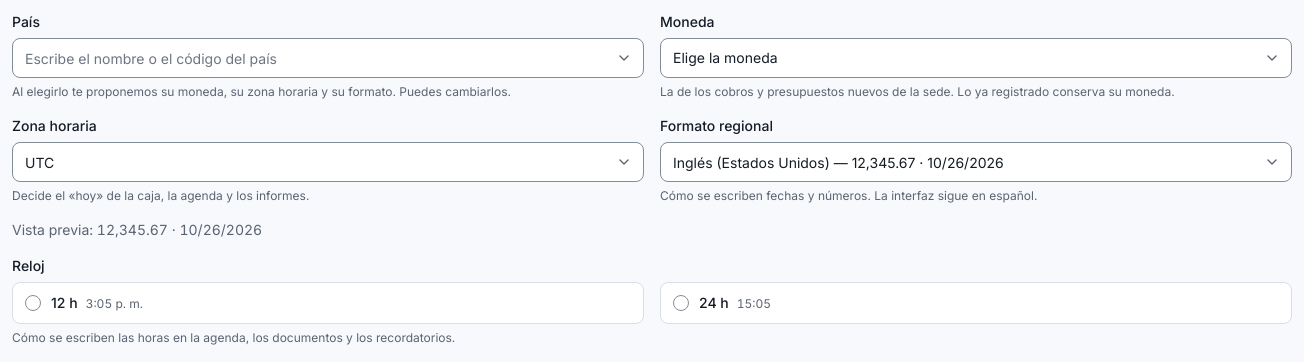
Test: RegionalSettingsFields › with a fixed clock › clock option examples and preview follow the chosen clock and locale
Check: the radio button labelled "24 h" is not checked, box [673,295,689,311]
Check: the text "Vista previa: 12,345.67 · 10/26/2026" is shown, box [12,221,262,238]
Click the radio button labelled "12 h". click: (33, 303)
box: [25,295,41,311]
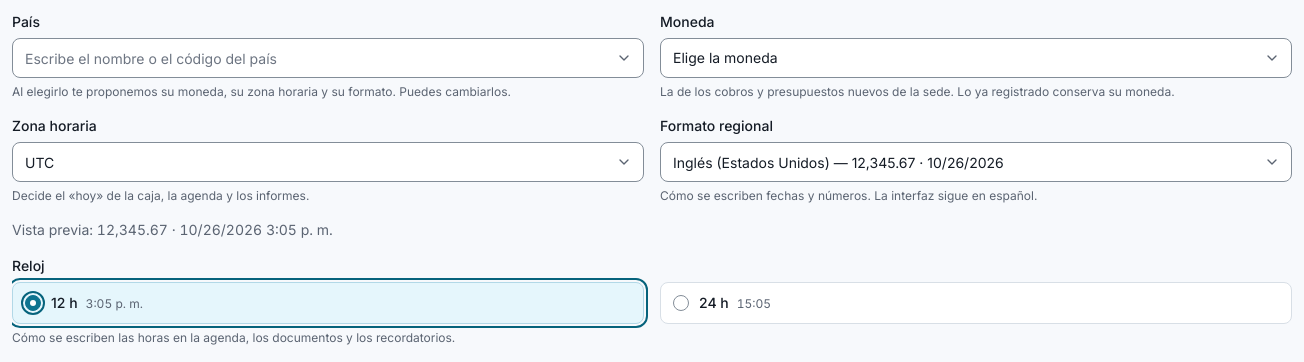
Check: the radio button labelled "12 h" is checked, box [25,295,41,311]
Check: the text "Vista previa: 12,345.67 · 10/26/2026 3:05 p. m." is shown, box [12,221,333,238]
Replace the text in the dropdown labelled "Formato regional" with "de-DE". click: (976, 162)
box: [660,142,1292,182]
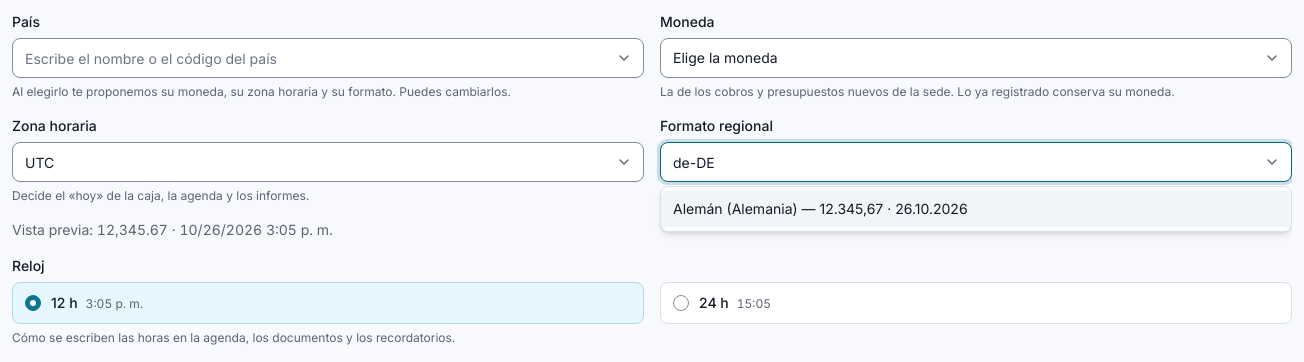
Press Enter
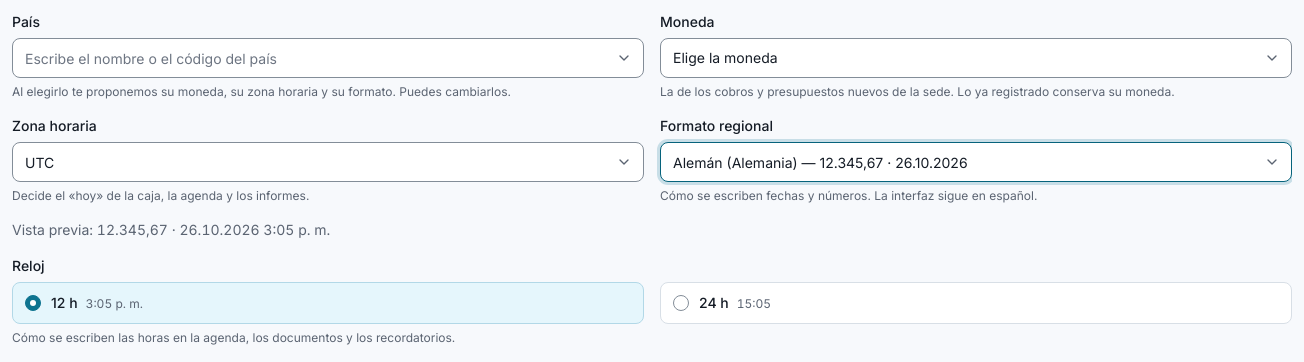
Click the radio button labelled "24 h". click: (681, 303)
box: [673,295,689,311]
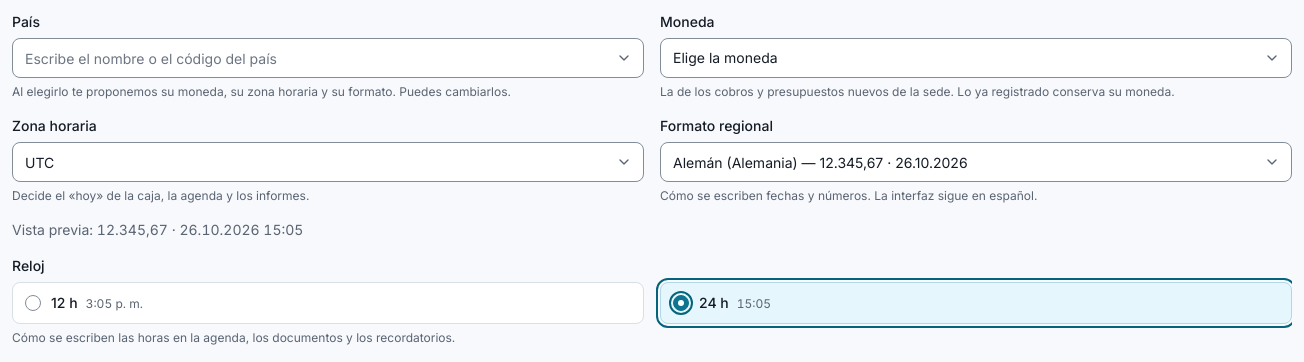
Check: the text "Vista previa: 12.345,67 · 26.10.2026 15:05" is shown, box [12,221,304,238]
Replace the text in the dropdown labelled "Zona horaria" with "Asia/Tokyo". click: (328, 162)
box: [12,142,644,182]
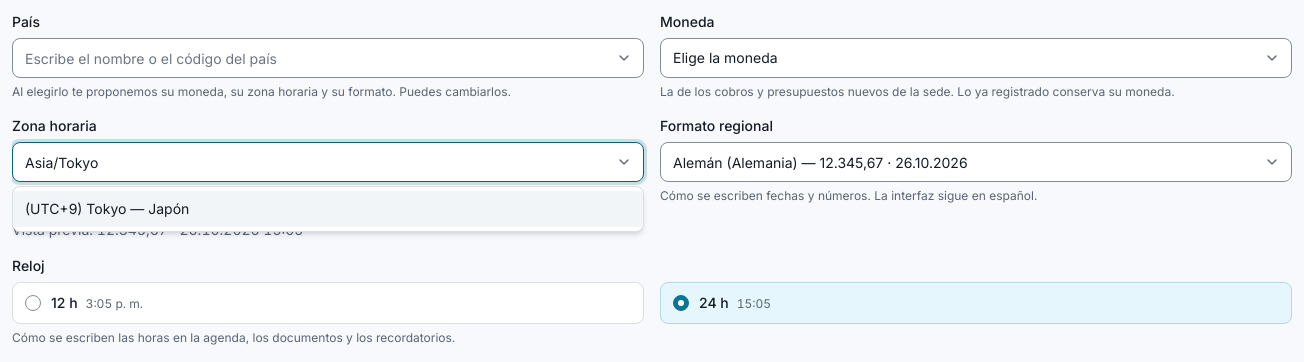
Press Enter
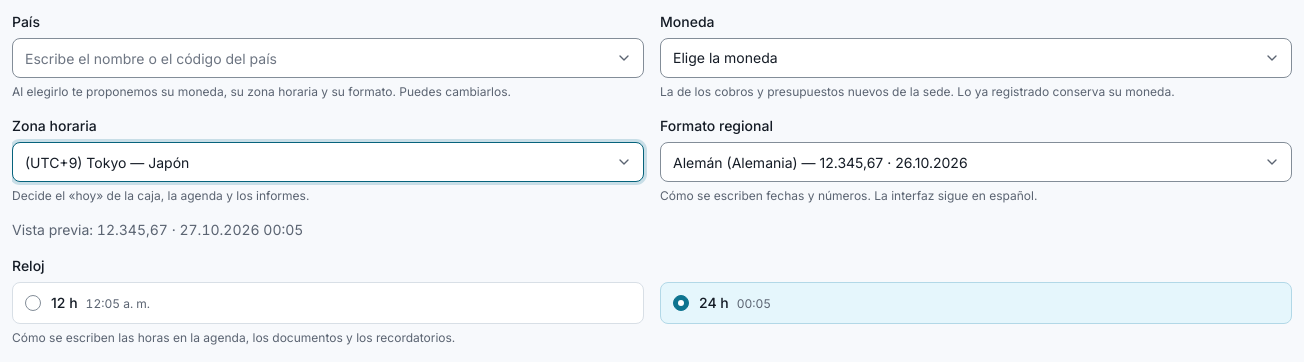
Check: the text "Vista previa: 12.345,67 · 27.10.2026 00:05" is shown, box [12,221,304,238]
